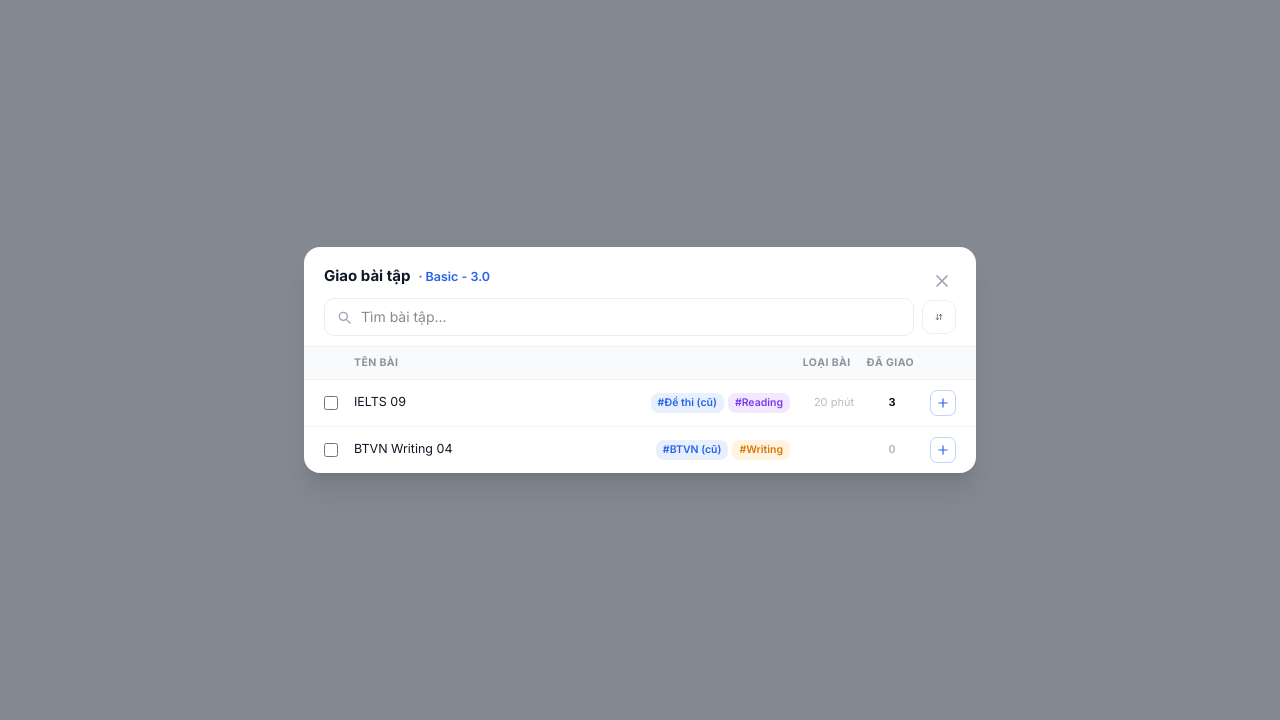
Test: QuickAssignDialog › keeps the historical total frozen until the dialog is reopened
What coordinates should you click on to do the following:
click the button with test id "quick-assign-add-s1"
I would click on:
 (943, 403)
Its box is [930,390,956,416].
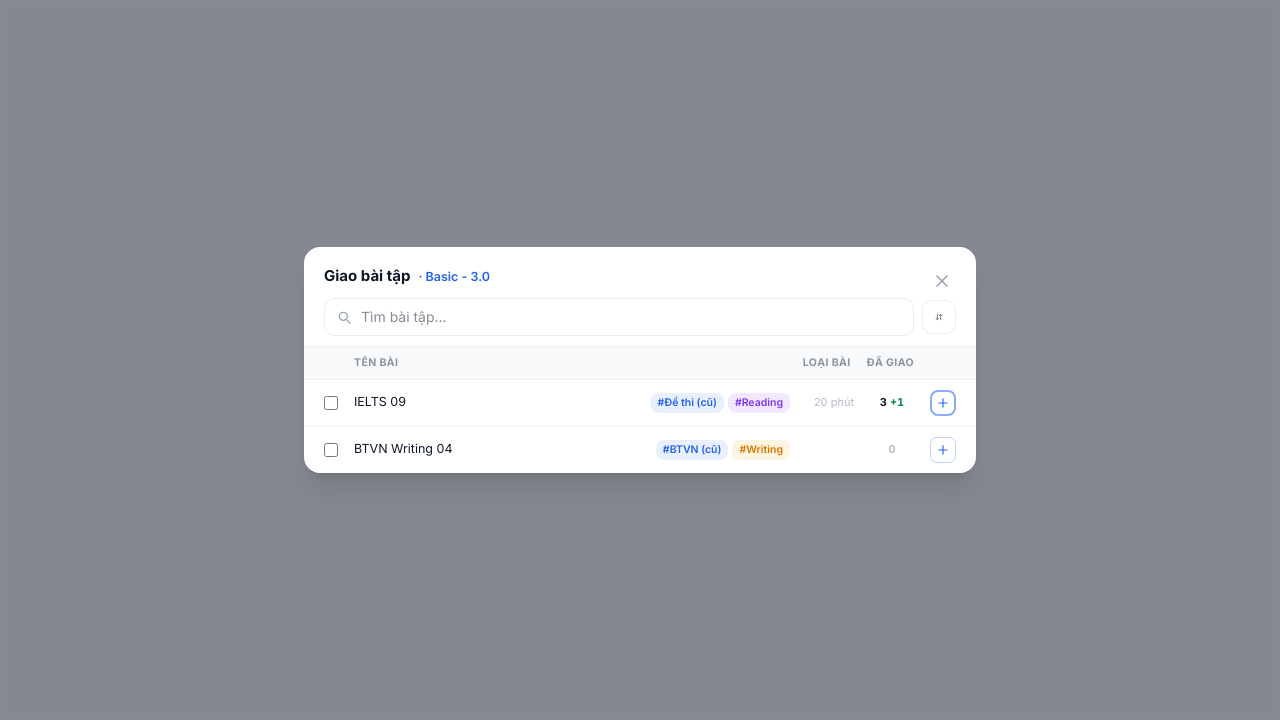
Expected: the text with test id "quick-assign-extra-s1" reads "+1", [890,394,904,411]
